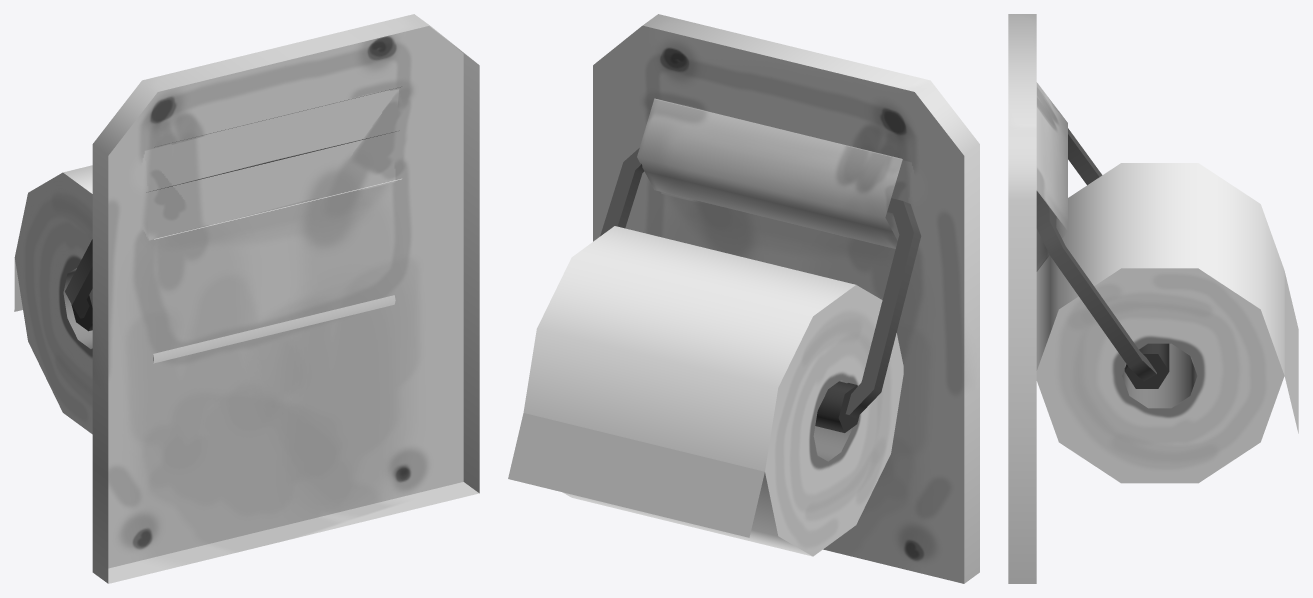
File: obj_ToiletPaperHolder.fbx
The picture shows the model from 3 angles, left to right: view 1: azimuth 30°, elevation 25°; view 2: azimuth 150°, elevation 25°; view 3: azimuth 270°, elevation 25°; orthographic projection. The views are drawn at different scales.
Visible parts, largest first — view 1: obj_ToiletPaperHolder; view 2: obj_ToiletPaperHolder; view 3: obj_ToiletPaperHolder.
Boxes of the visible parts, left/top/right/bottom form: obj_ToiletPaperHolder: left=14, top=14, right=479, bottom=583; obj_ToiletPaperHolder: left=508, top=14, right=979, bottom=583; obj_ToiletPaperHolder: left=1008, top=14, right=1298, bottom=583.
Bounding box in the file's own units: 0.2514 × 0.3107 × 0.1904.
